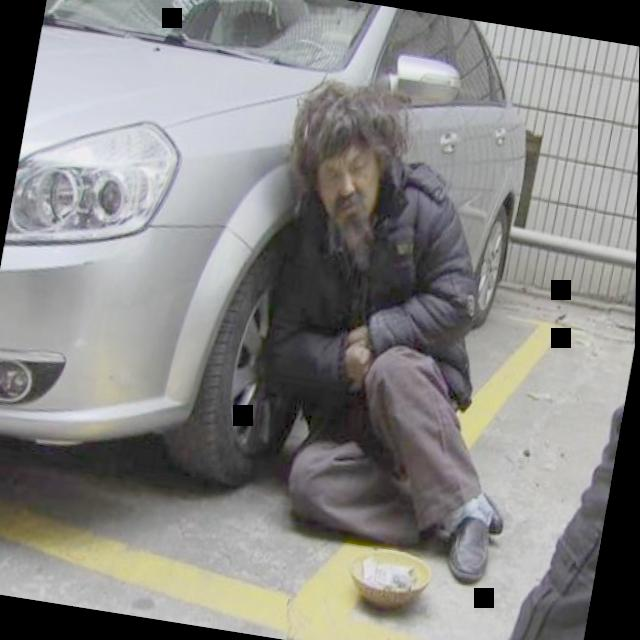Fall-Detected: (203, 56, 610, 602)
